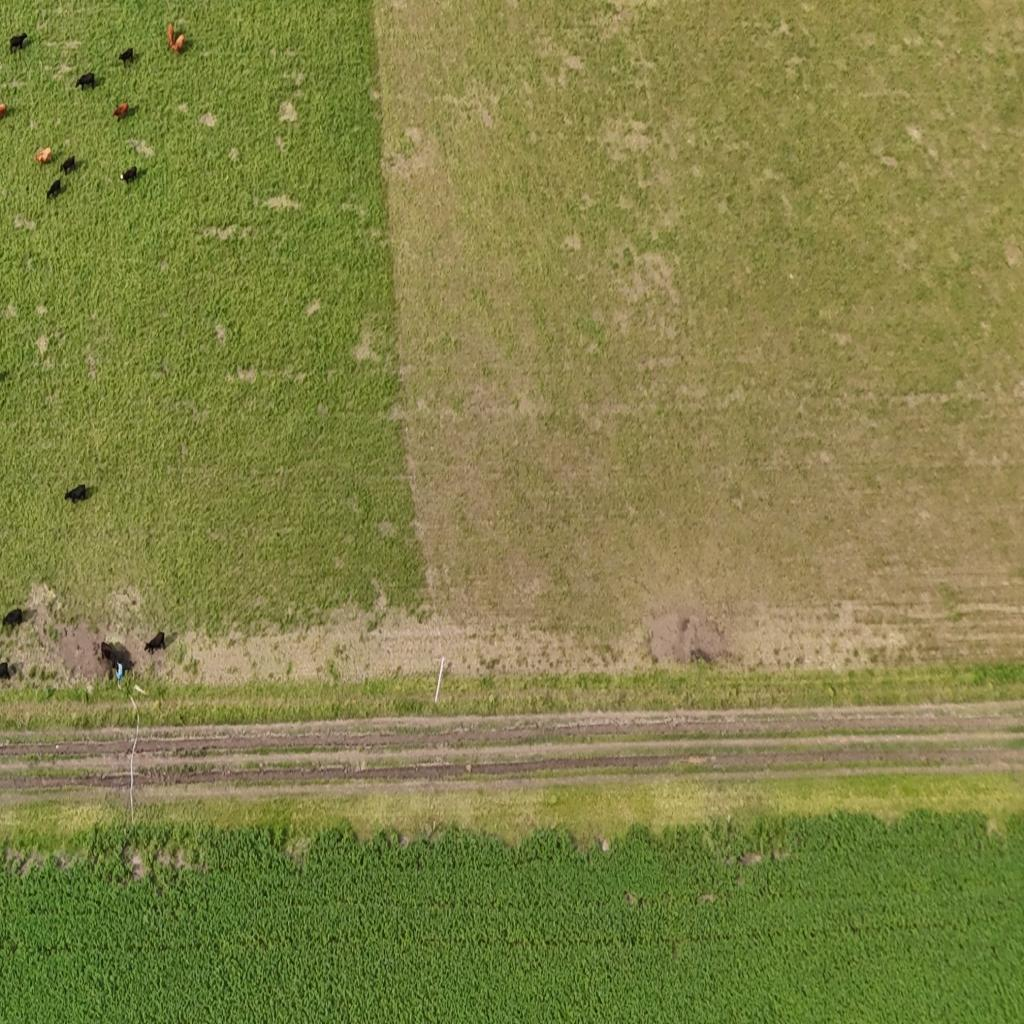cow: (116, 638, 137, 684), (64, 484, 92, 504), (2, 608, 24, 632), (144, 631, 165, 654), (46, 178, 62, 202), (100, 640, 116, 663), (76, 72, 96, 90), (10, 33, 28, 53), (112, 102, 130, 120), (120, 166, 138, 184), (34, 146, 52, 164), (61, 156, 76, 175), (118, 48, 134, 65), (173, 34, 185, 55), (168, 22, 176, 50), (0, 661, 11, 681), (0, 104, 8, 120)
